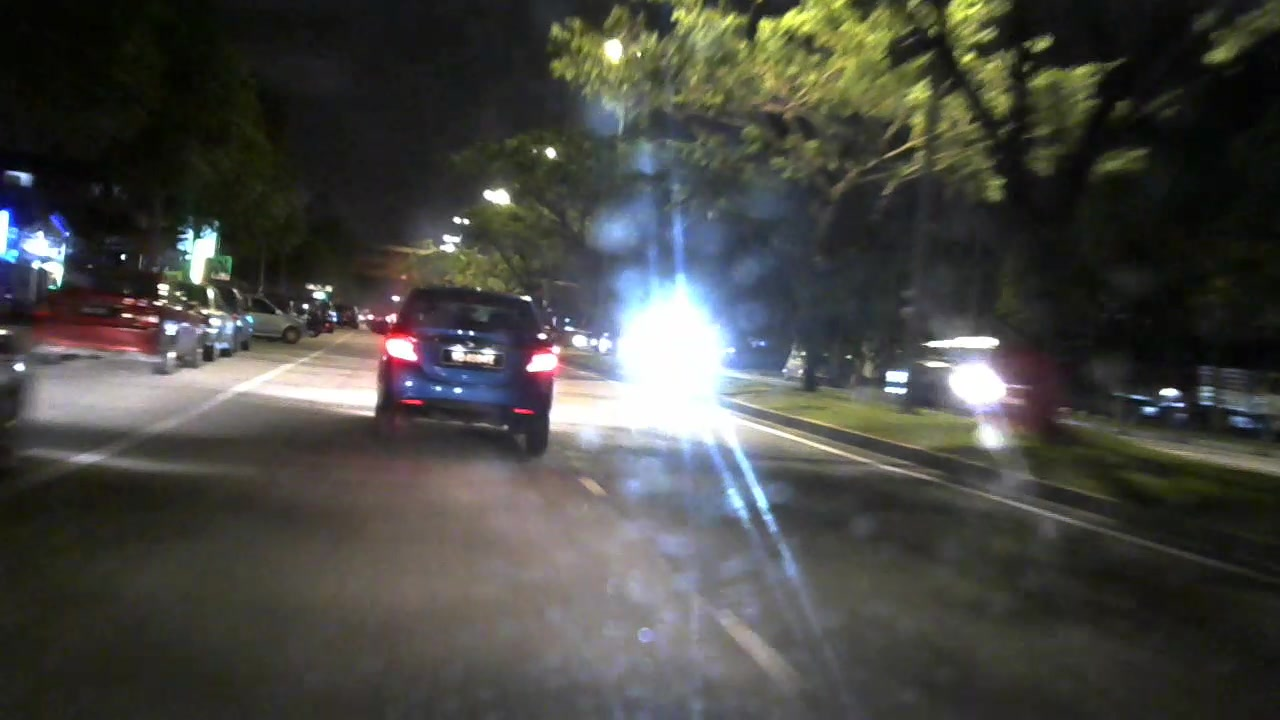Car: (369, 276, 566, 451), (24, 268, 211, 375), (248, 296, 306, 346), (327, 300, 366, 331)
